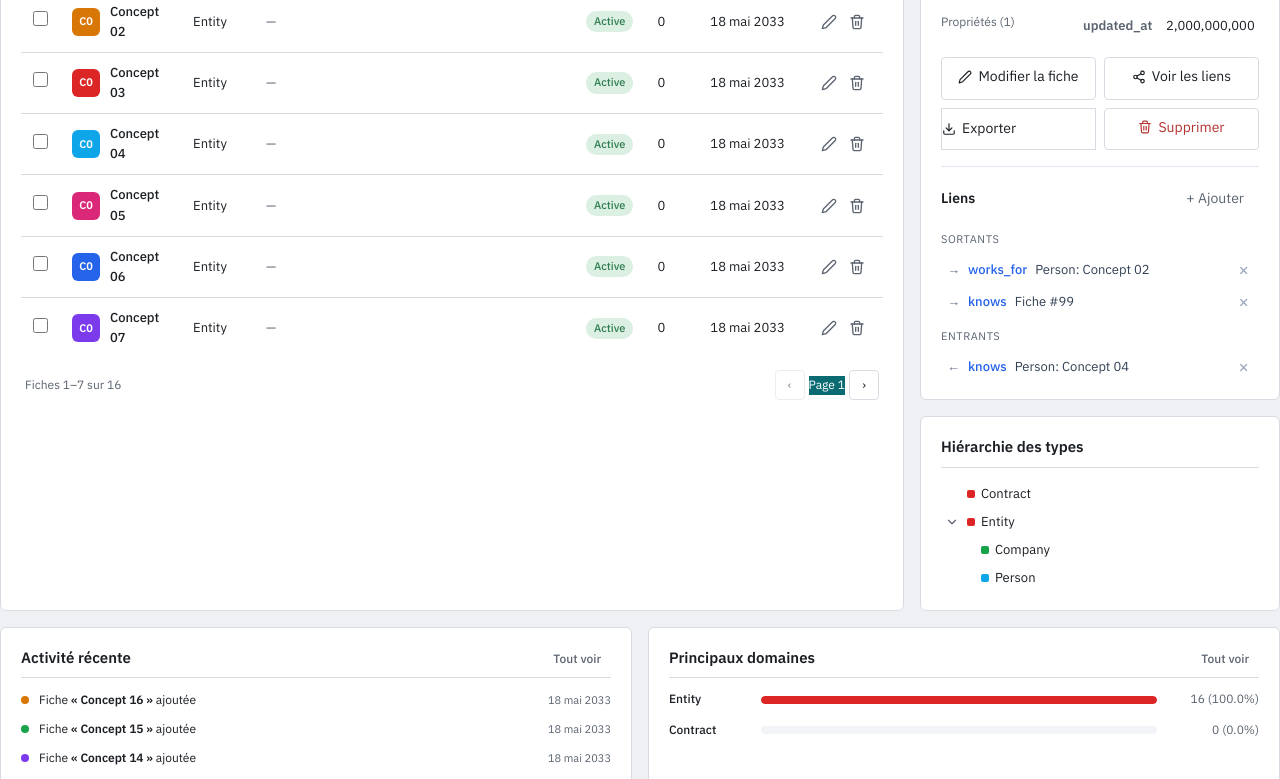
Test case: Concepts page — library list › pages by cursor: next pushes the server cursor, previous pops it, total comes from page 1
(page scrolled)
Expected: the text "Fiches 1–7 sur 16" is shown, [25, 376, 121, 395]
Expected: the text "Page 1" is shown, [808, 376, 845, 395]
Click the button named "Page suivante": click(864, 385) [849, 370, 879, 400]
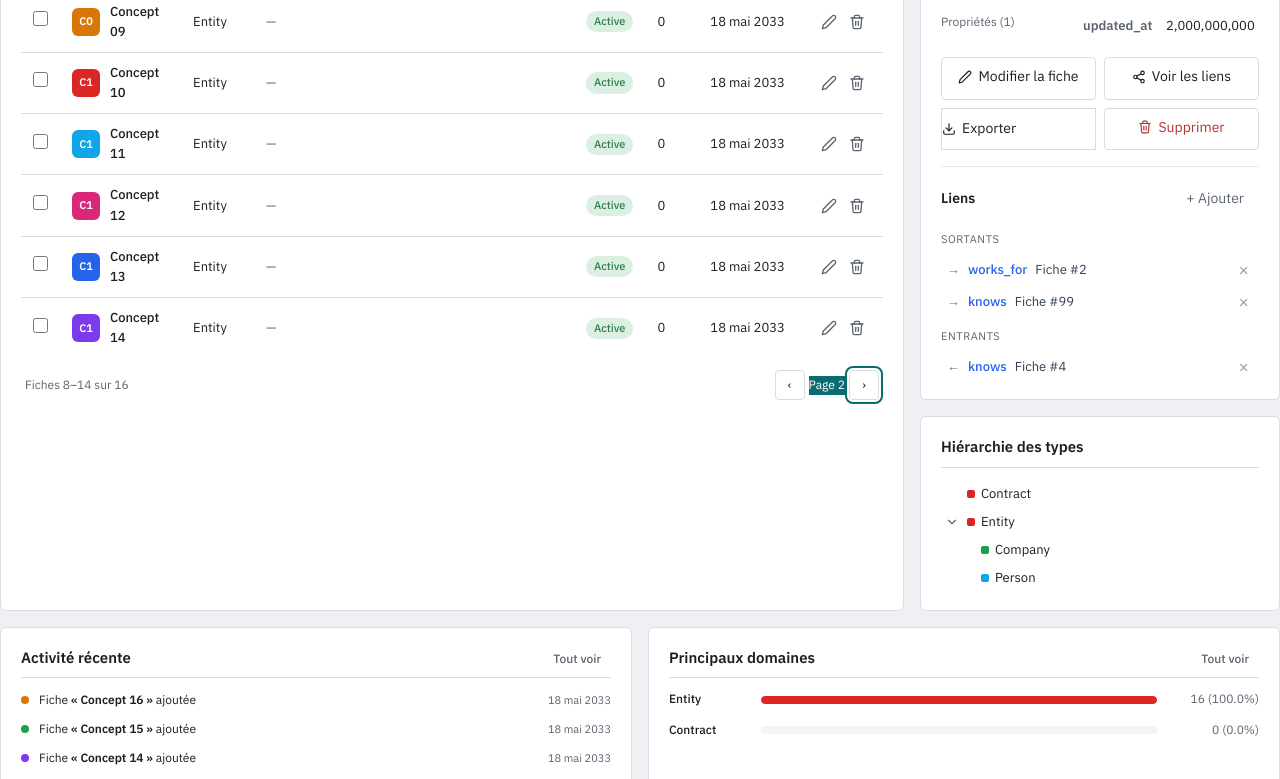
Expected: the text "Fiches 8–14 sur 16" is shown, [25, 376, 129, 395]
Expected: the text "Page 2" is shown, [808, 376, 845, 395]
Click the button named "Page suivante": click(864, 385) [849, 370, 879, 400]
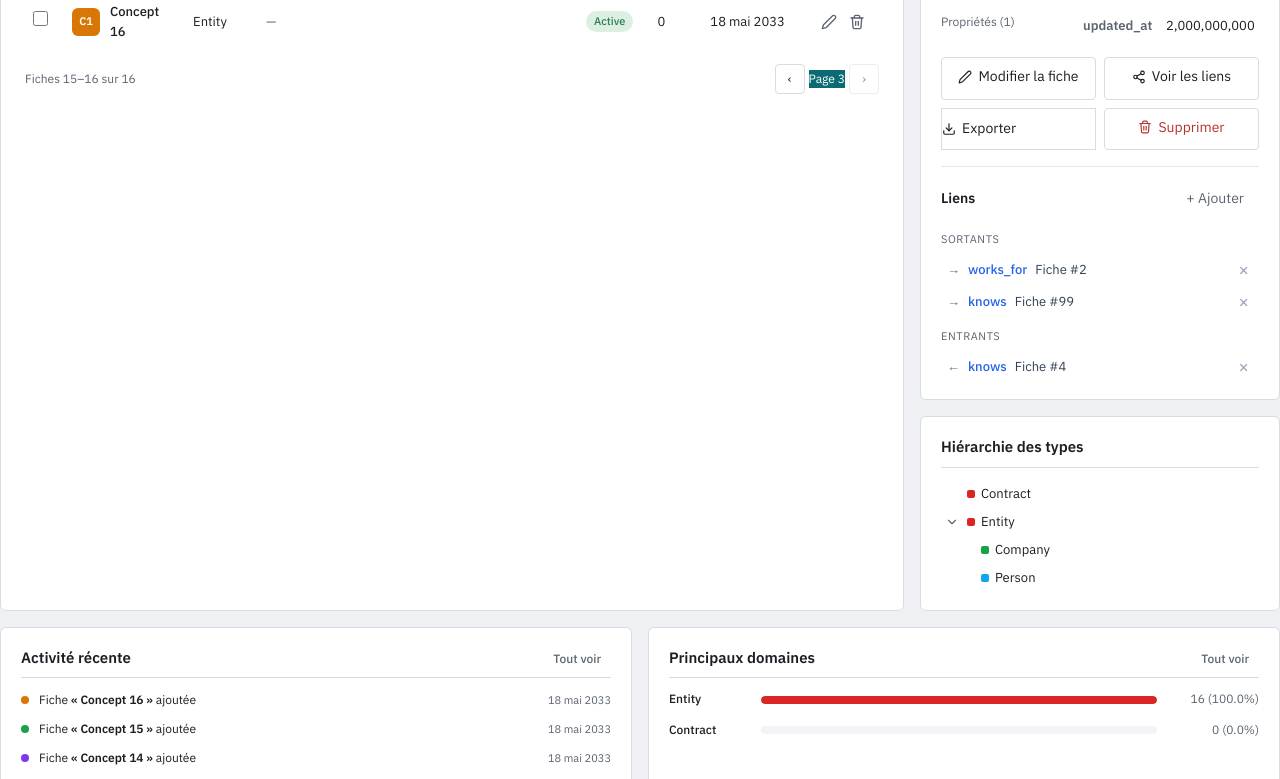
Expected: the text "Fiches 15–16 sur 16" is shown, [25, 70, 136, 88]
Expected: the button named "Page suivante" is disabled, [849, 64, 879, 94]
Click the button named "Page précédente": click(790, 79) [774, 64, 804, 94]
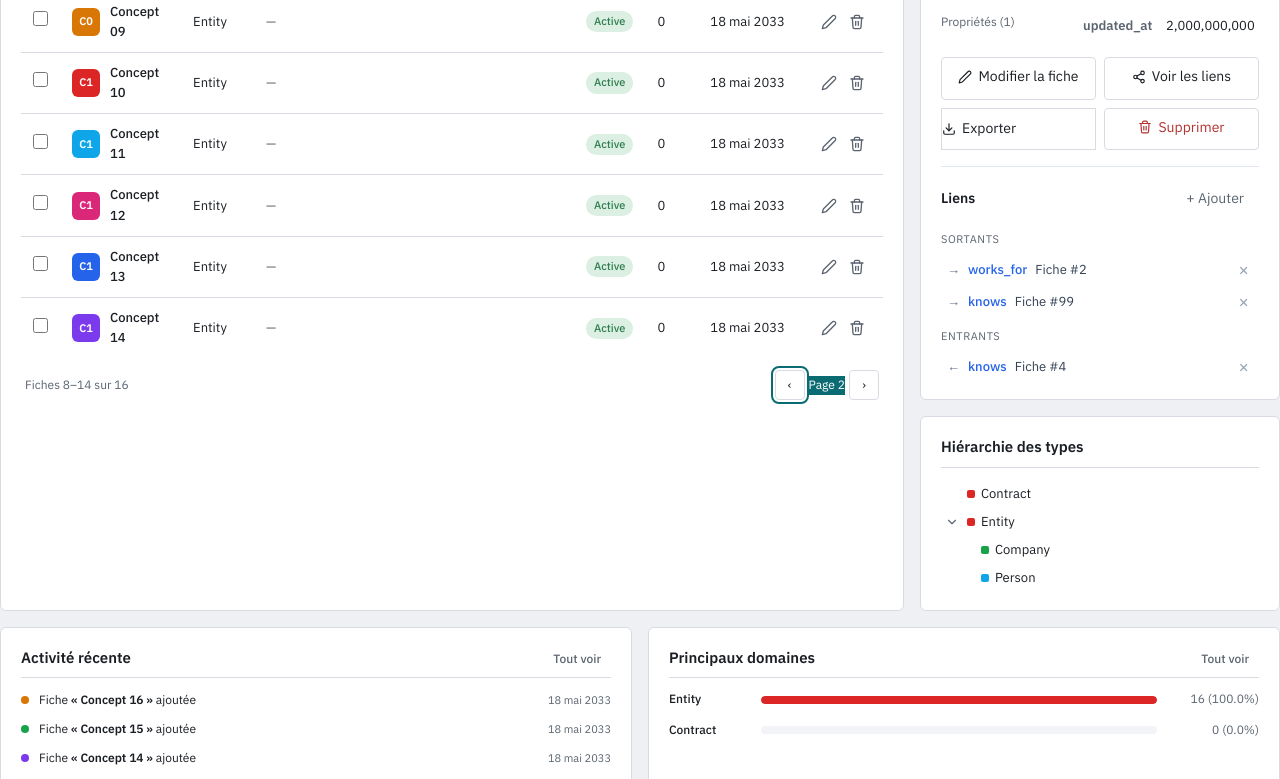
Expected: the text "Fiches 8–14 sur 16" is shown, [25, 376, 129, 395]
Click the button named "Page précédente": click(790, 385) [774, 370, 804, 400]
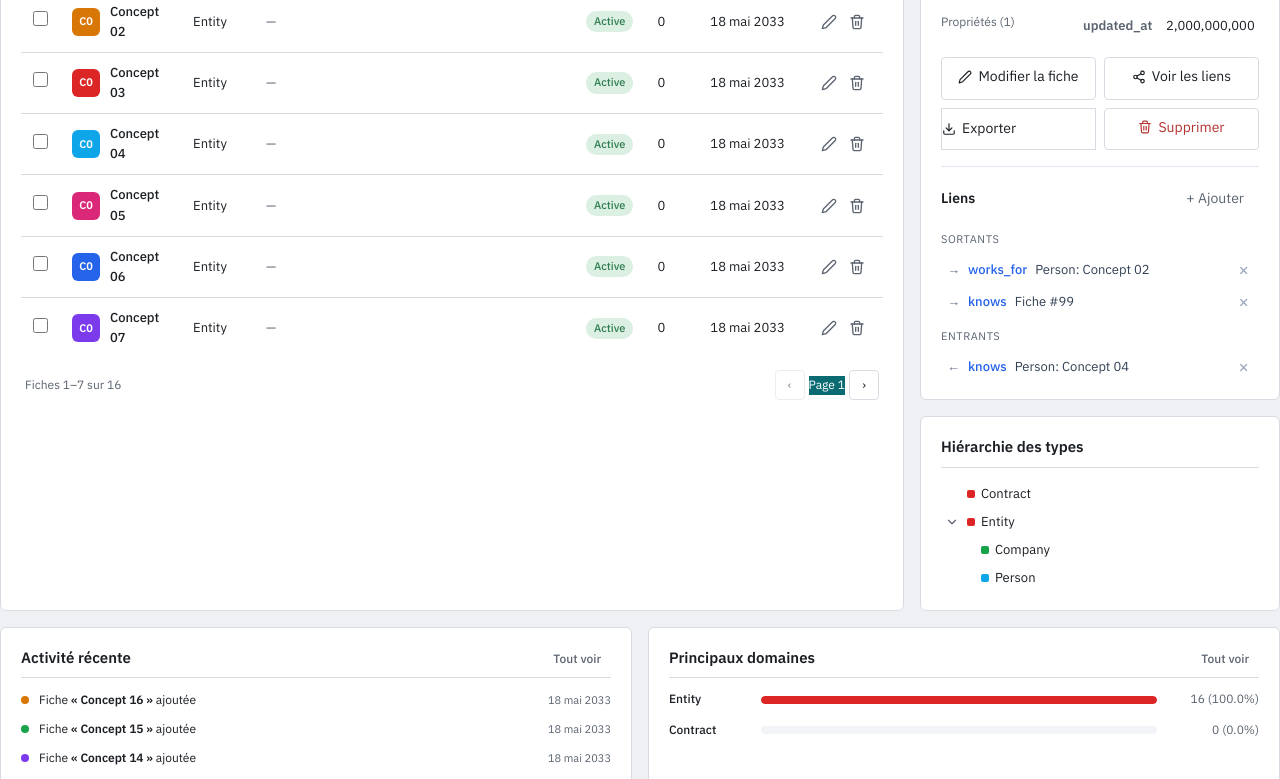
Expected: the text "Fiches 1–7 sur 16" is shown, [25, 376, 121, 395]
